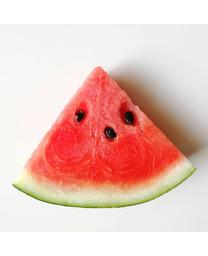watermelon: (13, 66, 197, 209)
